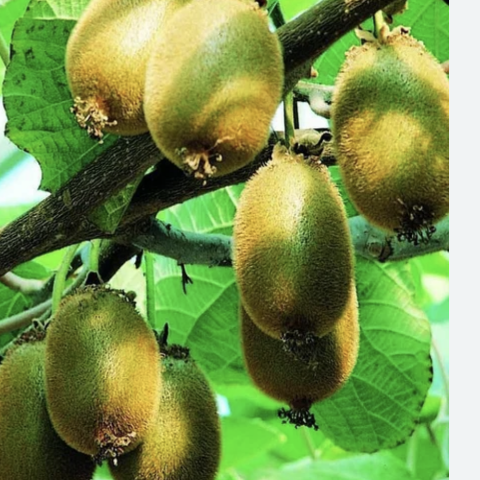kiwi: (313, 32, 479, 262), (214, 139, 371, 351), (141, 0, 314, 177), (30, 283, 172, 455)
